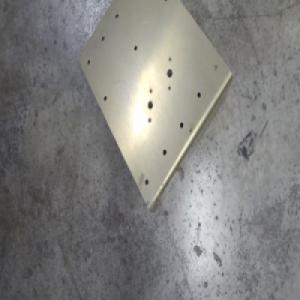MetalSheet: (77, 0, 236, 214)
